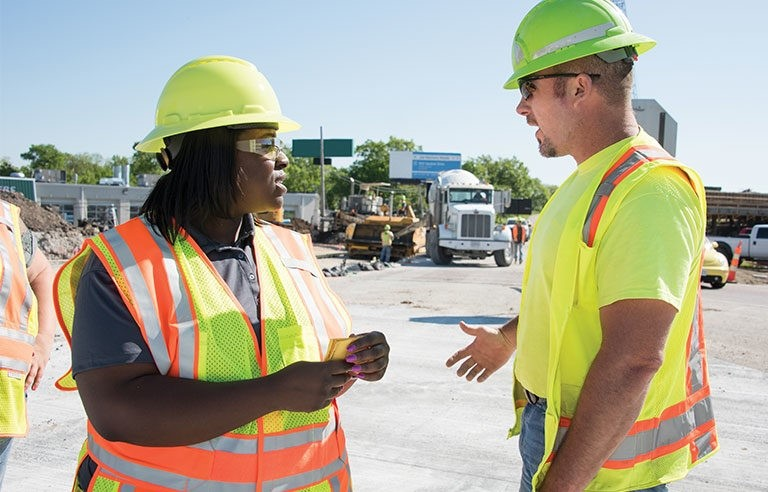face_no_mask: (185, 92, 294, 221), (513, 40, 618, 160)
